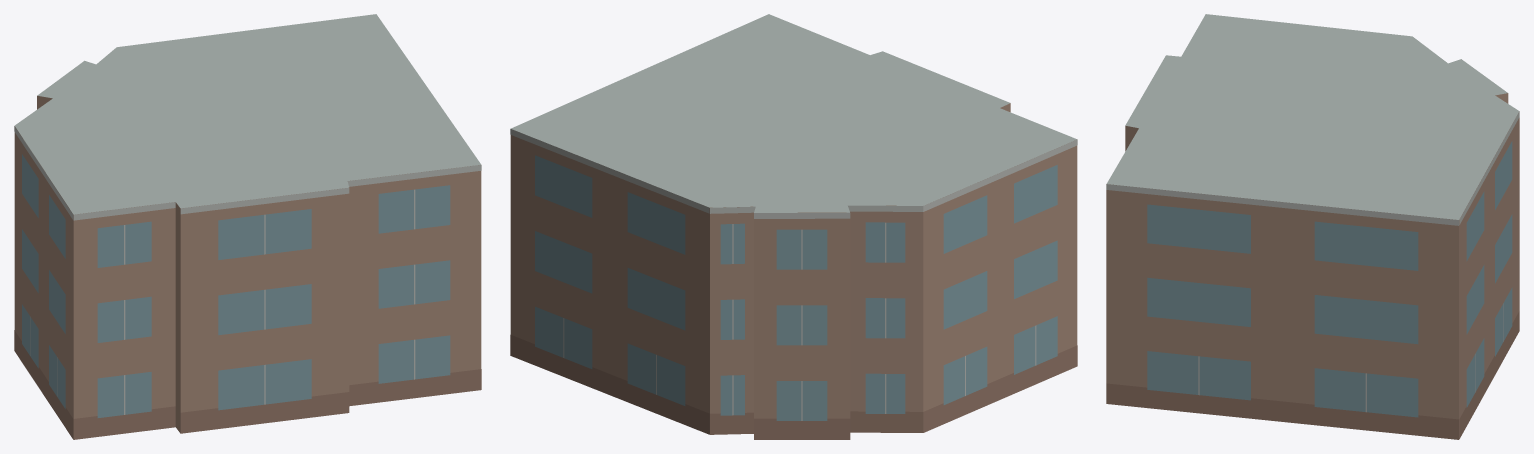
File: survey-upis-32711184.glb
3 renders of one model, left to right at view 1: azimuth 30°, elevation 25°; view 2: azimuth 150°, elevation 25°; view 3: azimuth 270°, elevation 25°, orthographic. The views are drawn at different scales.
Visible parts, largest first — view 1: survey-upis-32711184.tmp; view 2: survey-upis-32711184.tmp; view 3: survey-upis-32711184.tmp.
Part boxes in pixels (left/top/right/bottom): survey-upis-32711184.tmp: left=14, top=14, right=481, bottom=439; survey-upis-32711184.tmp: left=510, top=14, right=1077, bottom=439; survey-upis-32711184.tmp: left=1106, top=14, right=1519, bottom=439.
Size of the model in its own units: 18.4 by 9.15 by 15.59.
